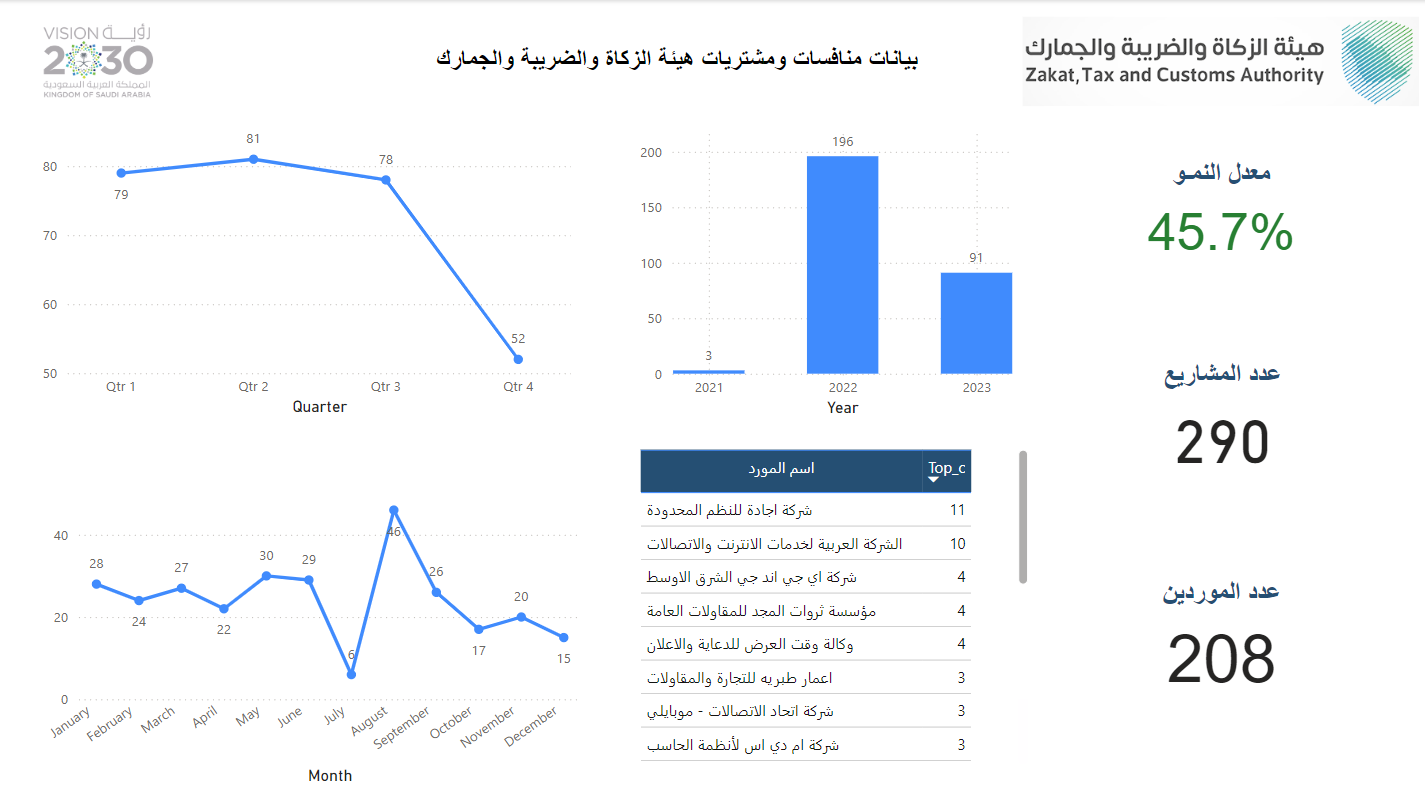

Layout of this report page (visuals, bound fields, positions):
{"tool":"powerbi","page":{"name":"Zakat,Tax","canvas":[1280,720],"ordinal":0},"visuals":[{"type":"clusteredColumnChart","title":"عدد المشاريع","fields":{"Category":["Public tenders data.تاريخ توقيع العقد.Variation.Date Hierarchy.Year","Public tenders data.تاريخ توقيع العقد.Variation.Date Hierarchy.Quarter","Public tenders data.تاريخ توقيع العقد.Variation.Date Hierarchy.Month","Public tenders data.تاريخ توقيع العقد.Variation.Date Hierarchy.Day"],"Y":["CountNonNull(Public tenders data.الرقم المرجعي )"]},"box":[570.5,103.7,343.7,273.8],"z":0},{"type":"lineChart","fields":{"Category":["Public tenders data.تاريخ توقيع العقد.Variation.Date Hierarchy.Quarter"],"Y":["CountNonNull(Public tenders data.الرقم المرجعي )"]},"box":[36,104.1,483.4,273.3],"z":1000},{"type":"lineChart","fields":{"Category":["Public tenders data.تاريخ توقيع العقد.Variation.Date Hierarchy.Month"],"Y":["CountNonNull(Public tenders data.الرقم المرجعي )"]},"box":[27.2,428,500.9,279.1],"z":2000},{"type":"image","box":[913.3,0,364.7,109.9],"z":3000},{"type":"card","title":"عدد المشاريع ","fields":{"Values":["CountNonNull(Public tenders data.الرقم المرجعي )"]},"box":[998.5,304.5,197.9,123.6],"z":4000},{"type":"tableEx","fields":{"Values":["Public tenders data.اسم المورد","Public tenders data.Top_c"]},"box":[570.4,397.6,358.2,291.9],"z":5000},{"type":"card","title":"عدد الموردين","fields":{"Values":["Count(Public tenders data.اسم المورد)"]},"box":[997.6,507.8,197.9,119.1],"z":6000},{"type":"card","title":"معدل النمـو","fields":{"Values":["Public tenders data.total %"]},"box":[1002.1,128.1,189,112.8],"z":7000},{"type":"textbox","title":"بيانات منافسات ومشتريات هيئة الزكاة والضريبة والجمارك","box":[375.2,40.3,467.5,28.7],"z":8000},{"type":"image","box":[10.7,16.1,160.3,76.1],"z":9000}]}

Visuals, with their boxes in screenshot pixels (x1, y1, x2, y2), scaled from the page's 1280x720 canvas onto the 1425x804 screenshot:
"عدد المشاريع" clusteredColumnChart: box(635, 116, 1018, 422)
lineChart - Public tenders data.تاريخ توقيع العقد.Variation.Date Hierarchy.Quarter x CountNonNull(Public tenders data.الرقم المرجعي ): box(40, 116, 578, 421)
lineChart - Public tenders data.تاريخ توقيع العقد.Variation.Date Hierarchy.Month x CountNonNull(Public tenders data.الرقم المرجعي ): box(30, 478, 588, 790)
image: box(1017, 0, 1423, 123)
"عدد المشاريع " card: box(1112, 340, 1332, 478)
tableEx - Public tenders data.اسم المورد x Public tenders data.Top_c: box(635, 444, 1034, 770)
"عدد الموردين" card: box(1111, 567, 1331, 700)
"معدل النمـو" card: box(1116, 143, 1326, 269)
"بيانات منافسات ومشتريات هيئة الزكاة والضريبة والجمارك" textbox: box(418, 45, 938, 77)
image: box(12, 18, 190, 103)
